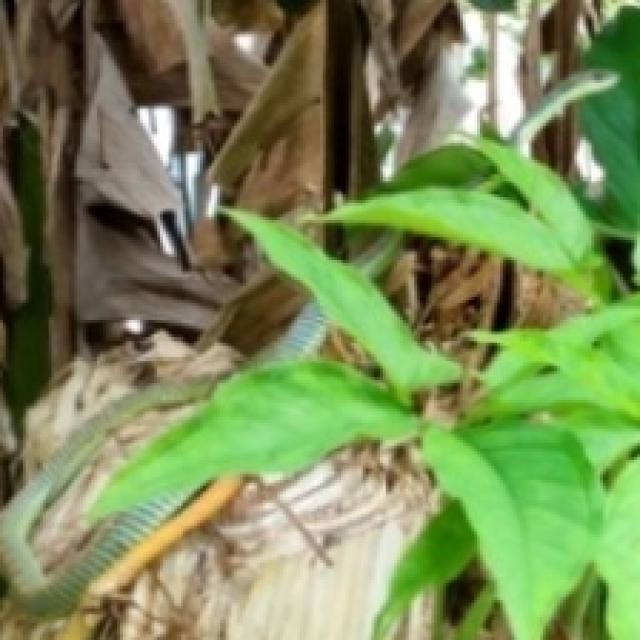paradise tree snake: (0, 361, 239, 619), (511, 70, 619, 151), (244, 301, 329, 368), (351, 231, 402, 280)
